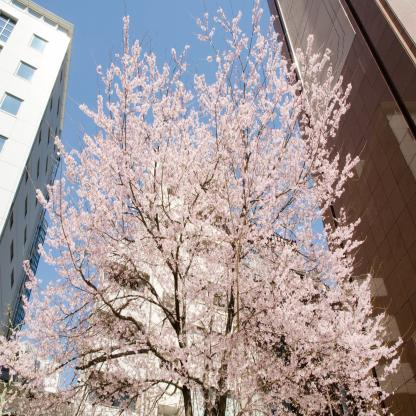EdohiganSakura: (1, 0, 404, 416)
